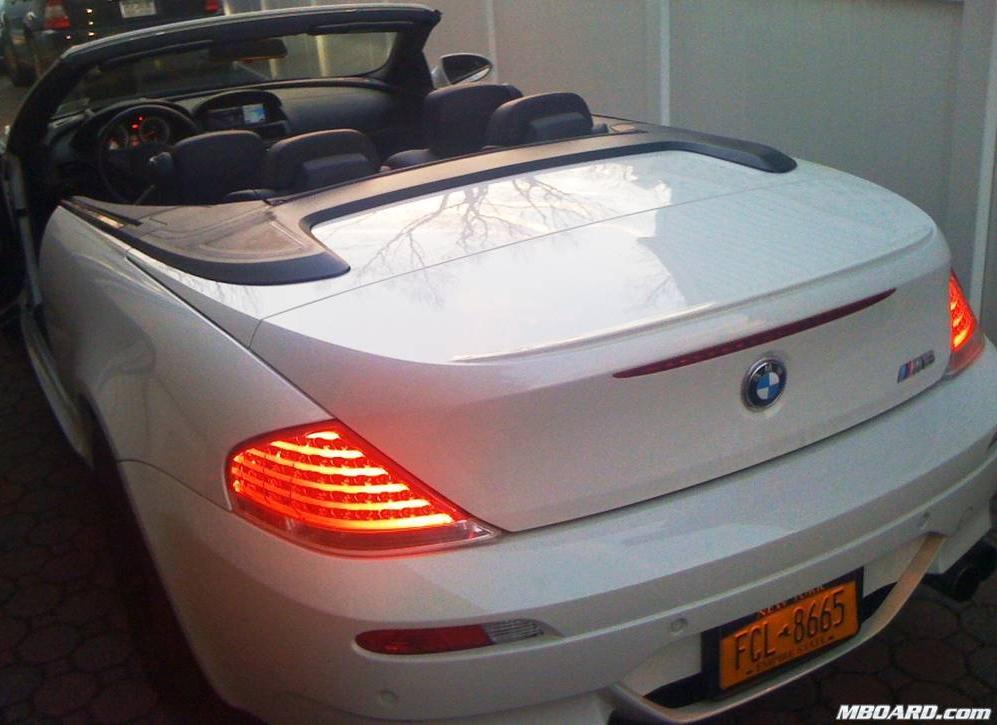back_view: (190, 189, 996, 725)
backlight: (205, 393, 511, 566)
